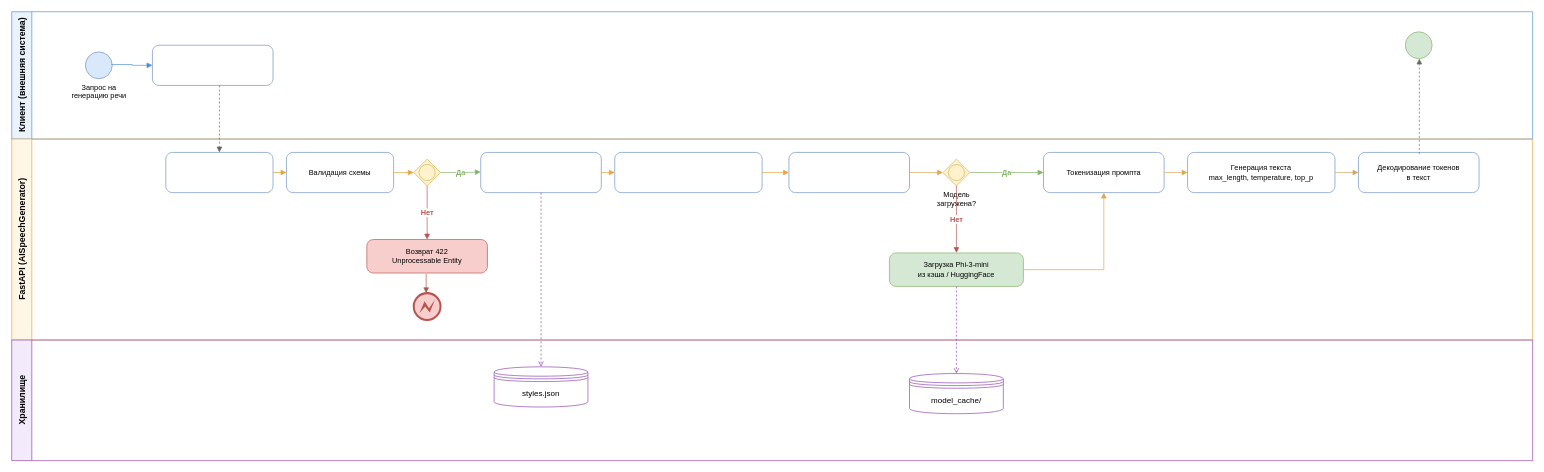
This 1544x472 diagram has some shape labels left out. Here are the shapes that lost their labels. From the top down, the centre of each, then its label:
At pixel 212 65: "POST /generate-speech/".
At pixel 1418 45: "Готовая речь получена".
At pixel 219 172: "Приём HTTP-запроса".
At pixel 427 172: "Данные валидны?".
At pixel 540 172: "Загрузка стиля из styles.json".
At pixel 688 172: "Формирование промпта тема + стиль + key_points".
At pixel 849 172: "Проверка загрузки модели".
